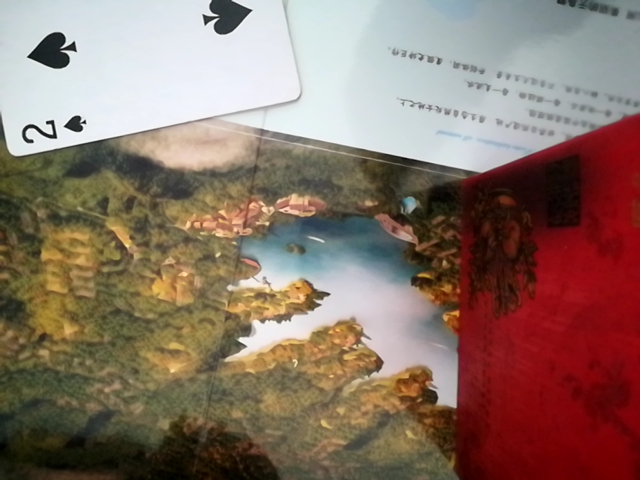ht 2: (0, 0, 311, 156)
